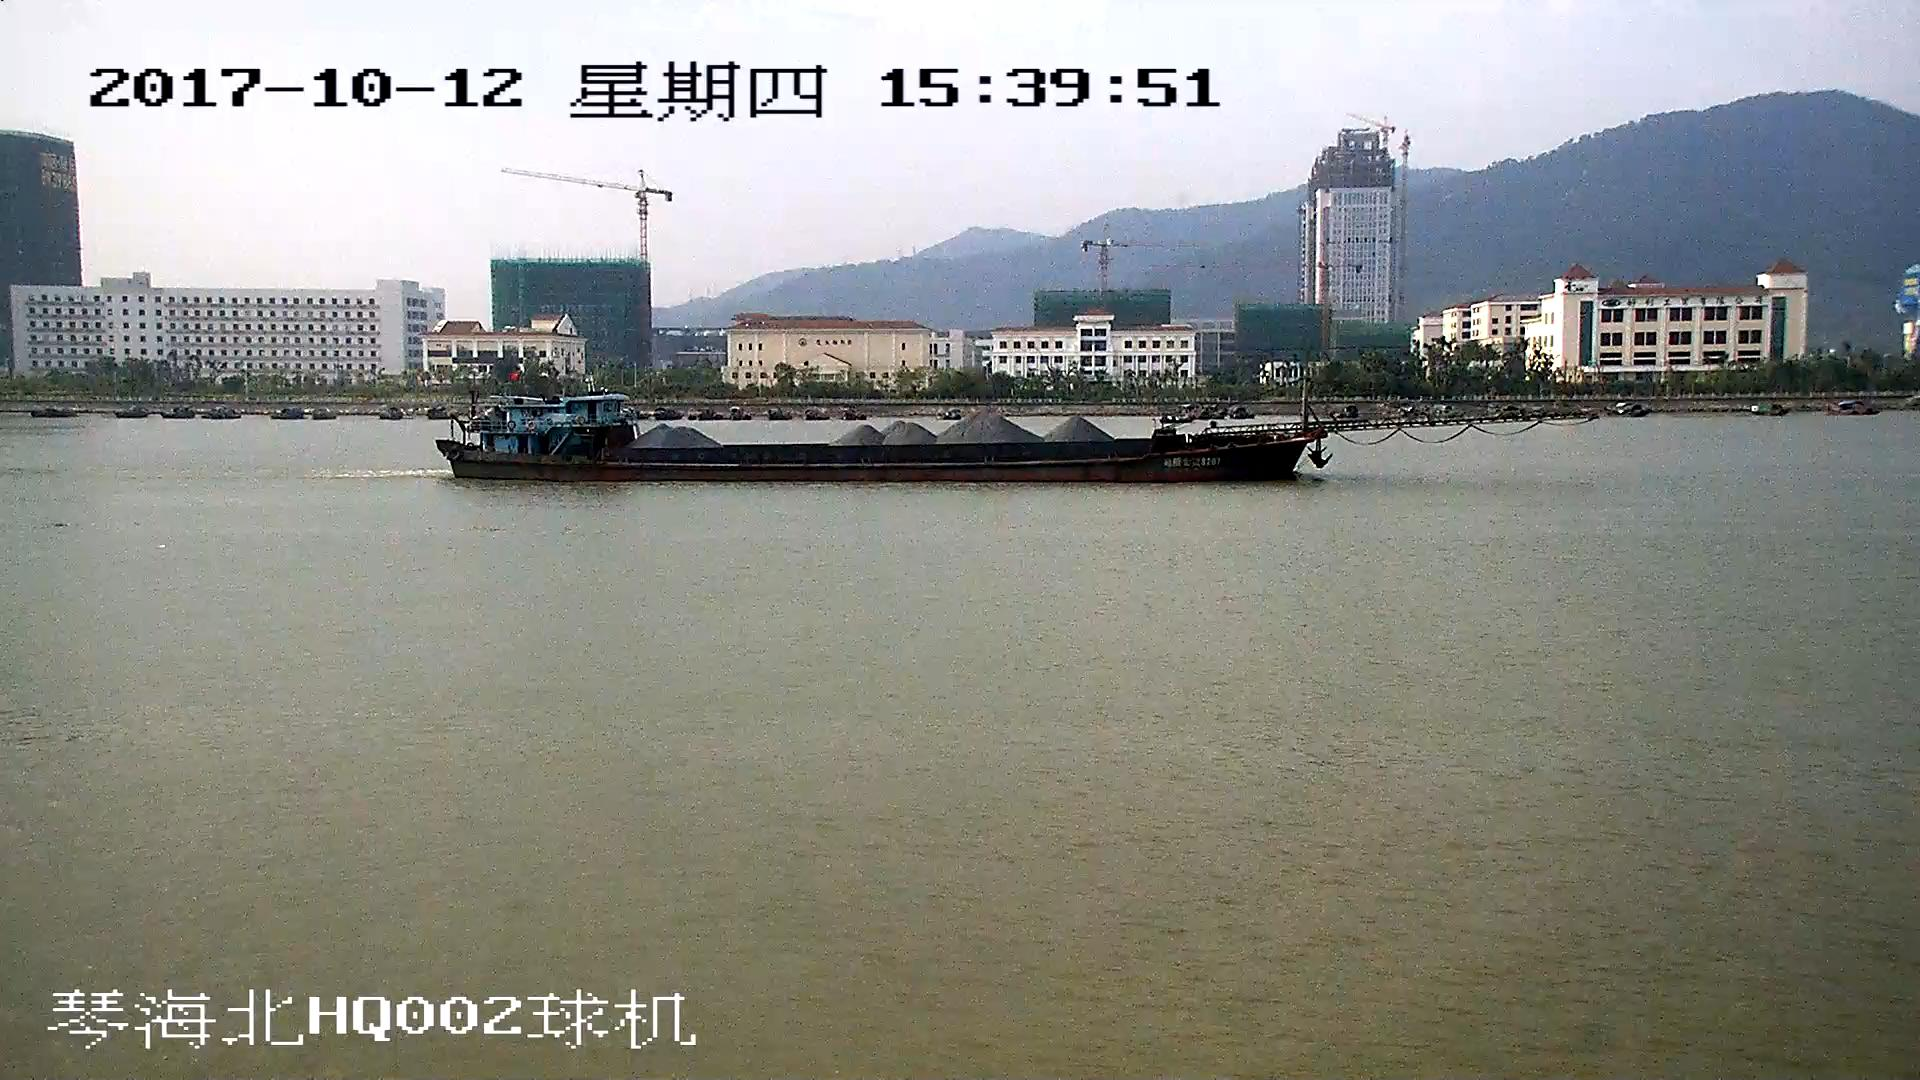ore carrier: (439, 375, 1559, 485)
